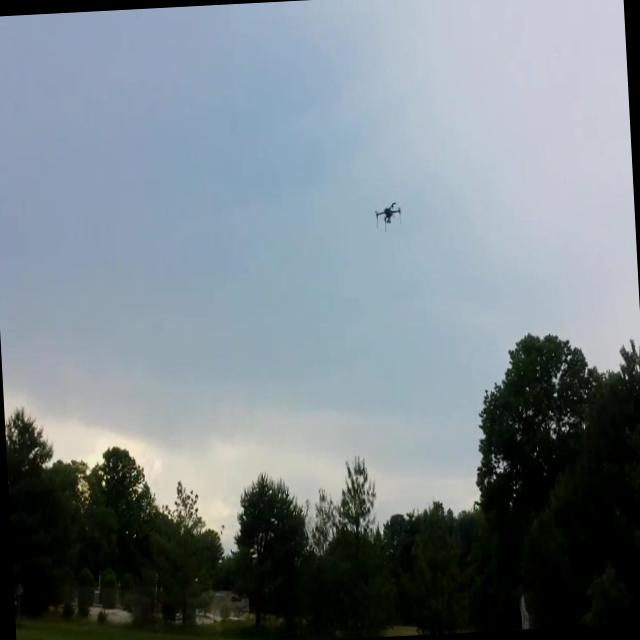drone: (372, 198, 406, 234)
